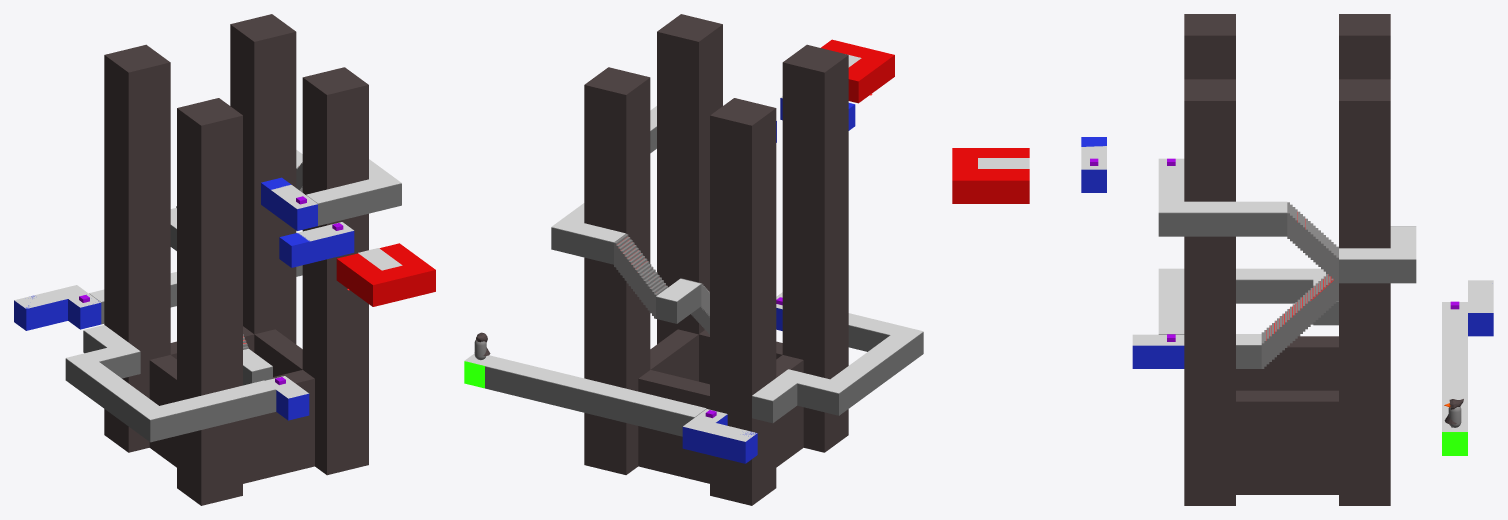
Rendered from level 1.fbx.
3 renders of one model, left to right at view 1: azimuth 30°, elevation 25°; view 2: azimuth 150°, elevation 25°; view 3: azimuth 270°, elevation 25°, orthographic. The views are drawn at different scales.
Visible parts, largest first — view 1: Cube__4_, Cube__2_, Cube__3_, Cube__1_, Cube, Cube__8_, EndPointL1, platform, Cube__14_, platform_3, platform_2, platform_1; view 2: Cube__2_, Cube__4_, Cube__1_, Cube__3_, Cube, Cube__8_, Cube__10_, EndPointL1, platform, Cube__16_, Cube__13_, Stairs__6_ (+1 smaller); view 3: Cube__1_, Cube__3_, Cube, EndPointL1, Cube__2_, Cube__4_, Cube__14_, Cube__8_, Cube__16_, platform_1, platform_3, Stairs__2_ (+6 smaller).
Boxes of the visible parts, x1,y1,x2,y2 form: Cube__4_: [177, 98, 242, 505]; Cube__2_: [104, 44, 170, 452]; Cube__3_: [302, 67, 368, 475]; Cube__1_: [230, 14, 296, 344]; Cube: [149, 326, 314, 483]; Cube__8_: [65, 330, 276, 442]; EndPointL1: [336, 243, 435, 306]; platform: [14, 295, 101, 330]; Cube__14_: [306, 183, 401, 225]; platform_3: [279, 231, 354, 267]; platform_2: [261, 177, 317, 230]; platform_1: [276, 390, 309, 420]; Cube__2_: [710, 98, 776, 505]; Cube__4_: [782, 44, 848, 452]; Cube__1_: [584, 67, 650, 474]; Cube__3_: [657, 14, 722, 344]; Cube: [638, 329, 803, 483]; Cube__8_: [752, 325, 923, 423]; Cube__10_: [485, 366, 706, 436]; EndPointL1: [821, 39, 894, 103]; platform: [682, 414, 757, 463]; Cube__16_: [551, 227, 625, 264]; Cube__13_: [656, 284, 701, 323]; Stairs__6_: [614, 234, 647, 269]; Cube__1_: [1339, 79, 1390, 505]; Cube__3_: [1184, 79, 1235, 505]; Cube: [1236, 336, 1338, 494]; EndPointL1: [952, 148, 1029, 203]; Cube__2_: [1339, 14, 1390, 79]; Cube__4_: [1184, 14, 1235, 79]; Cube__14_: [1158, 212, 1287, 236]; Cube__8_: [1158, 279, 1338, 334]; Cube__16_: [1339, 259, 1416, 283]; platform_1: [1132, 345, 1184, 368]; platform_3: [1081, 137, 1106, 192]; Stairs__2_: [1287, 288, 1313, 322].
Bounding box in the file's own units: 450 × 520 × 630.
